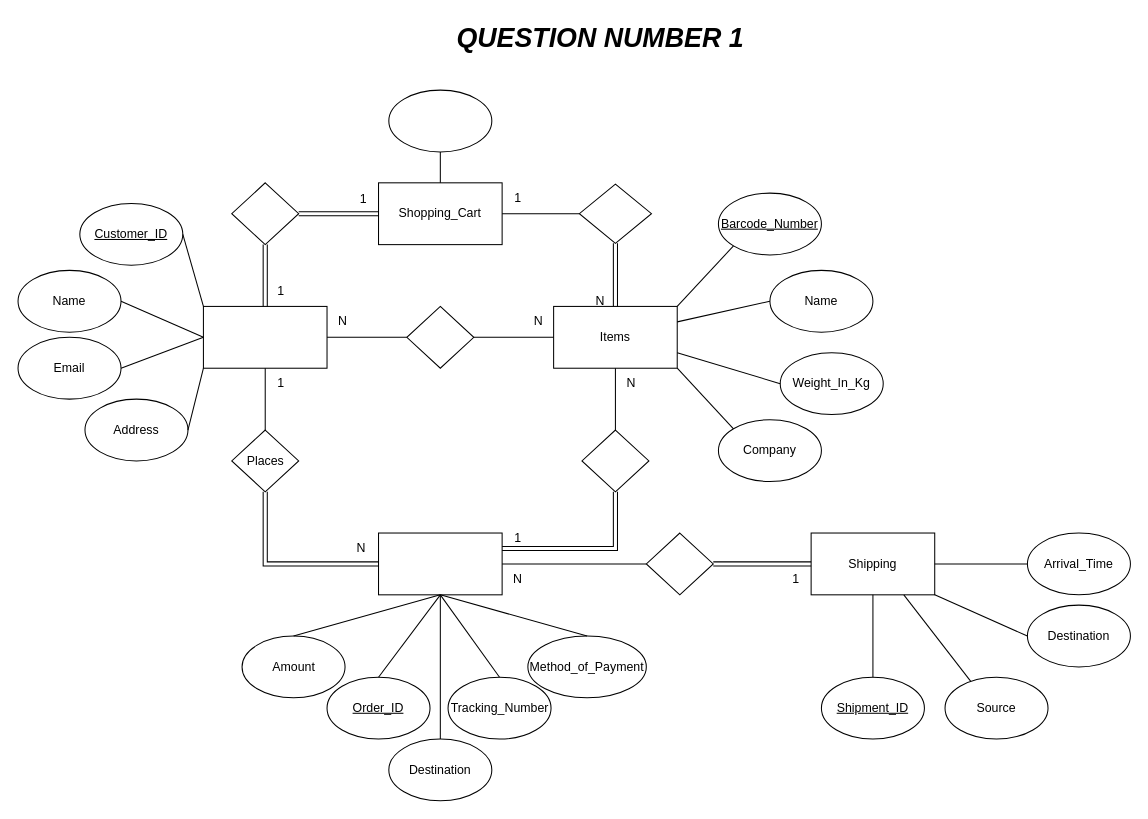
The diagram is 1148 pixels wide and 819 high, and some of its shapes have lost their labels. The shapes that lost their labels are listed below. From the top down, each one's centre as x and y in pixels, then its label:
At point (440, 120): "Cart_ID".
At point (265, 213): "Has a".
At point (614, 213): "Contains".
At point (264, 336): "Customers".
At point (440, 336): "Browses".
At point (615, 460): "has".
At point (439, 563): "Order".
At point (679, 563): "Sent".
